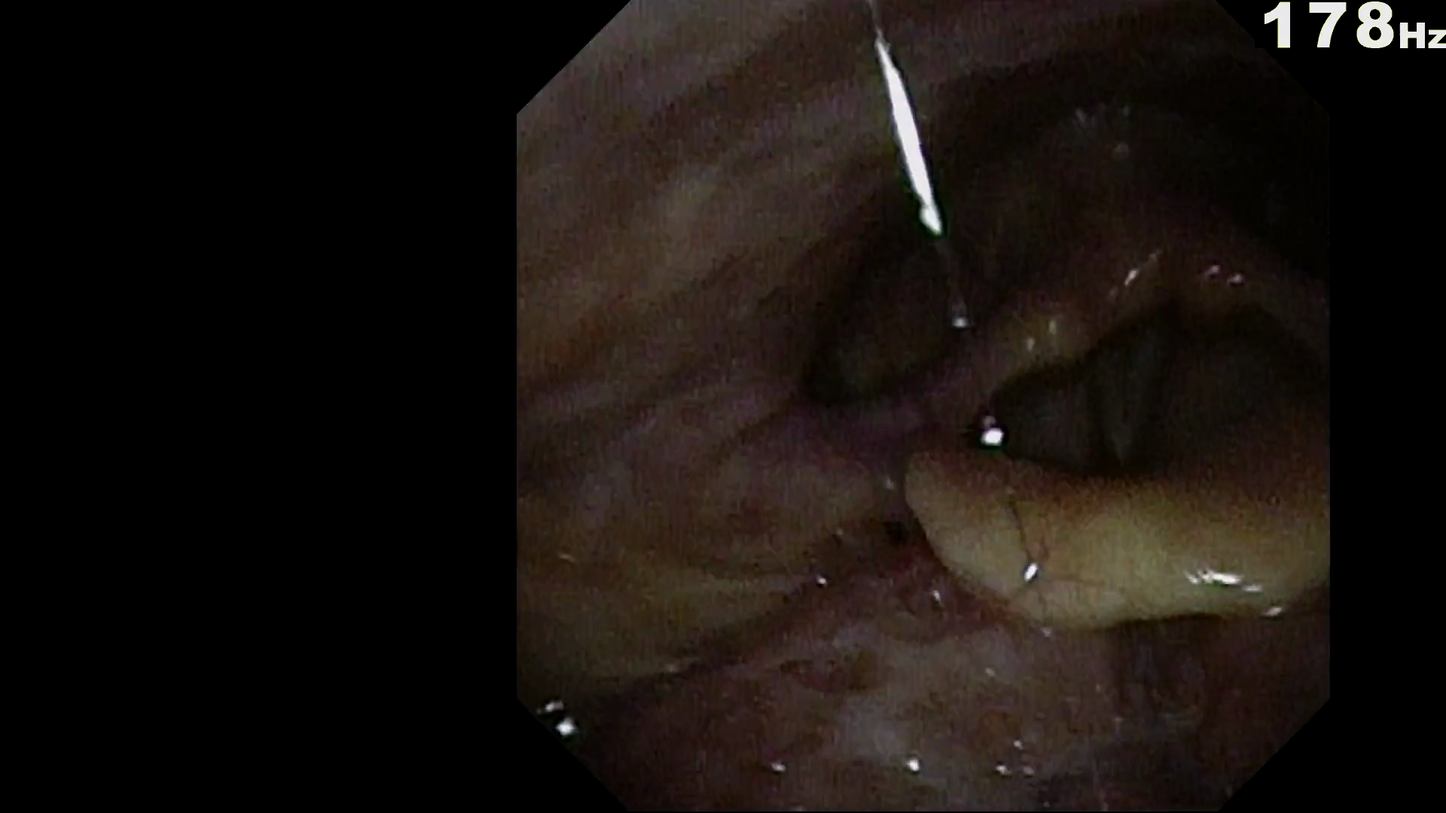epiglottis: (892, 442, 1320, 648)
trachea: (1058, 333, 1205, 487)
